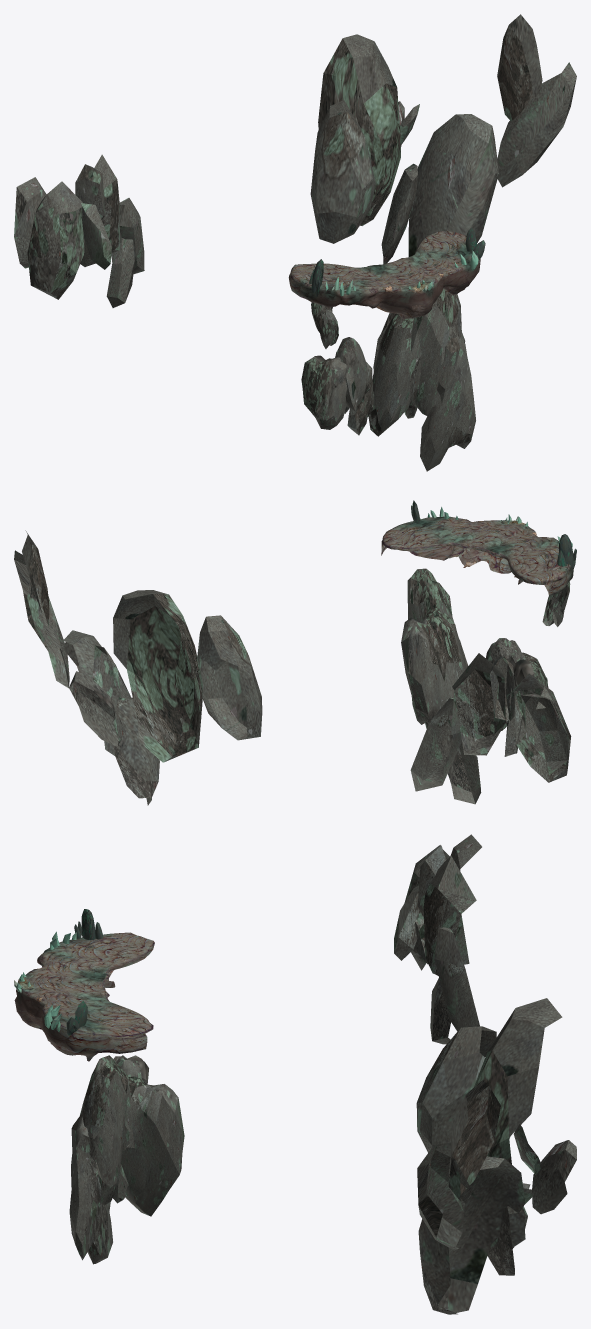
The model's file is Stage_main_bone.fbx.
The picture shows the model from 3 angles, top to bottom: view 1: azimuth 30°, elevation 25°; view 2: azimuth 150°, elevation 25°; view 3: azimuth 270°, elevation 25°; orthographic projection. The views are drawn at different scales.
Parts seen in each view (by area): view 1: Cube.003, Cube.002, StalacBigA_low.001, AA_lp, StalacBigA_low, StalacA_low; view 2: Cube.003, Cube.002, AA_lp, StalacBigA_low.001, StalacBigA_low, StalacA_low, Stalac_left; view 3: Cube.003, StalacBigA_low.001, AA_lp, Cube.002, Cube.010, StalacBigA_low.
Part boxes in pixels (x1,y1,x2,y2): Cube.003: (310, 14, 576, 264); Cube.002: (14, 154, 144, 307); StalacBigA_low.001: (368, 289, 475, 471); AA_lp: (288, 231, 480, 318); StalacBigA_low: (301, 337, 374, 435); StalacA_low: (311, 302, 338, 348); Cube.003: (14, 530, 262, 805); Cube.002: (410, 653, 571, 804); AA_lp: (381, 516, 573, 595); StalacBigA_low.001: (401, 568, 468, 728); StalacBigA_low: (486, 638, 548, 730); StalacA_low: (542, 581, 570, 626); Stalac_left: (557, 534, 576, 568); Cube.003: (416, 998, 576, 1314); StalacBigA_low.001: (69, 1055, 184, 1264); AA_lp: (14, 932, 154, 1061); Cube.002: (394, 834, 481, 1044); Cube.010: (14, 931, 76, 1032); StalacBigA_low: (113, 1055, 148, 1084).
Bounding box in the file's own units: 12038 × 5766 × 8798.
